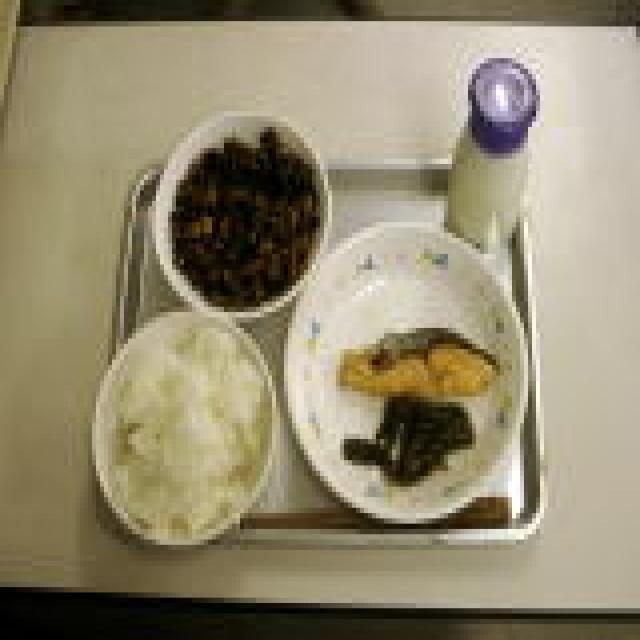熟制海鲜: (324, 317, 496, 402)
米饭主食: (52, 323, 328, 492)
